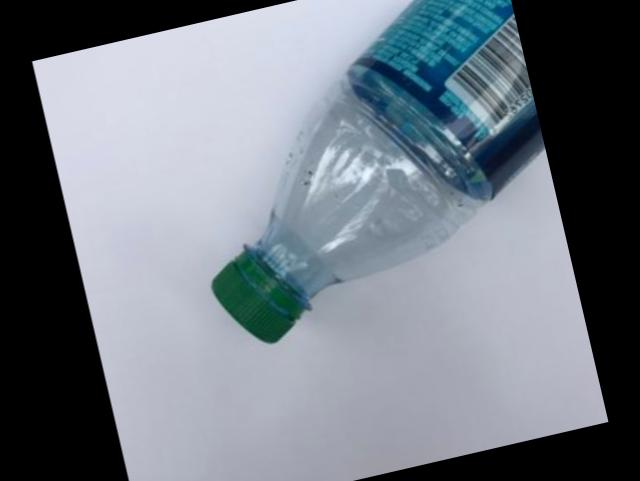plastic: (210, 0, 541, 339)
